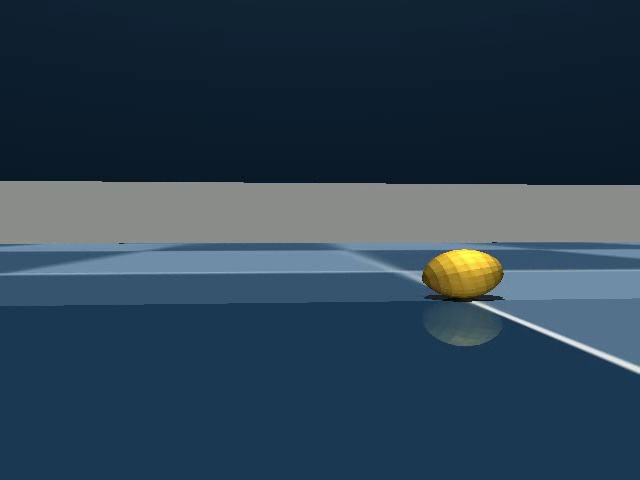lemon: (415, 245, 513, 307)
